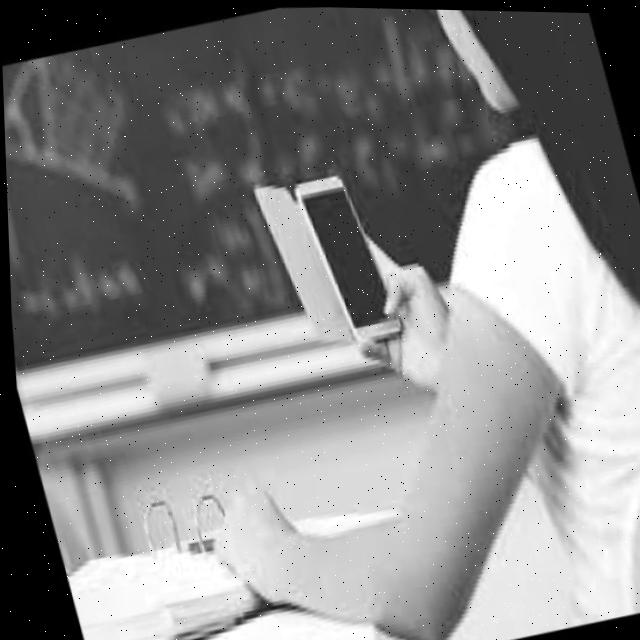phone: (287, 163, 402, 353)
